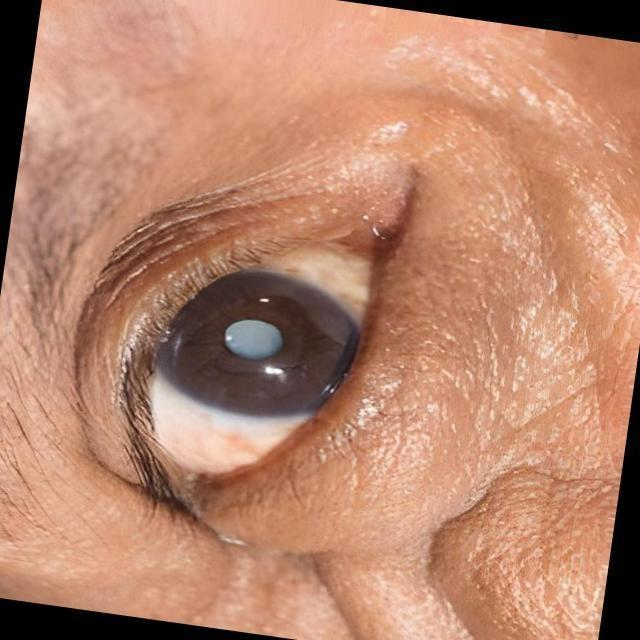Cataract: (156, 266, 378, 431)
